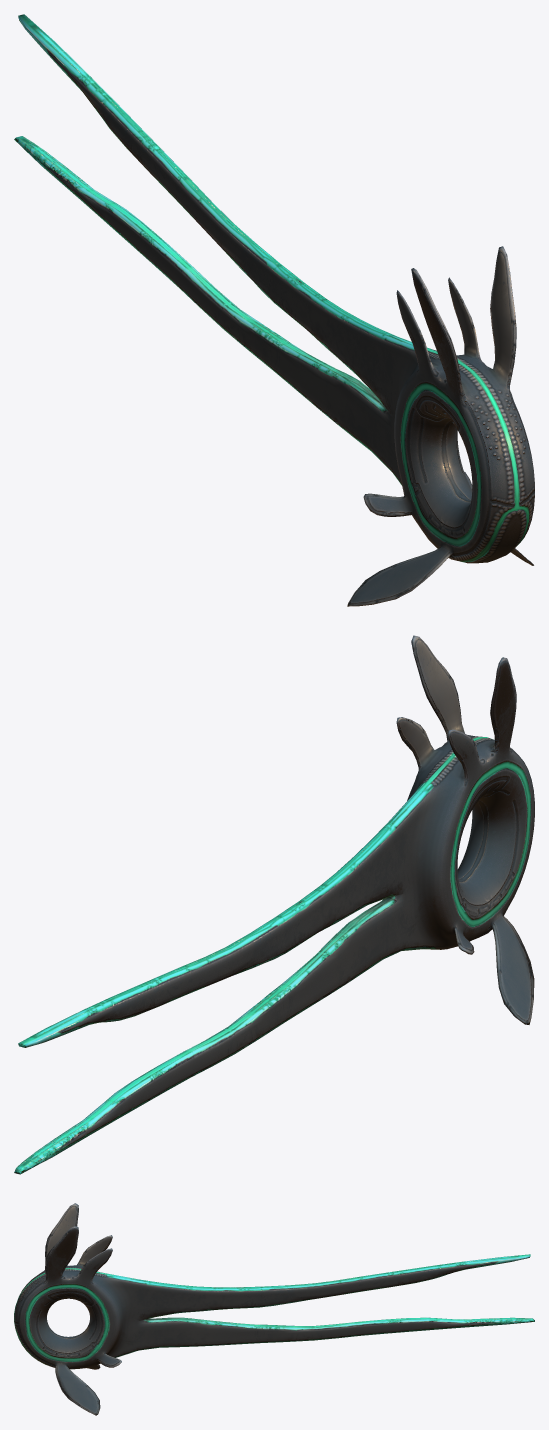
Rendered from anomaly.obj.
The picture shows the model from 3 angles, top to bottom: view 1: azimuth 30°, elevation 25°; view 2: azimuth 150°, elevation 25°; view 3: azimuth 270°, elevation 25°; orthographic projection. The views are drawn at different scales.
Parts seen in each view (by area): view 1: Torus002__0; view 2: Torus002__0; view 3: Torus002__0.
Part boxes in pixels (<box>): Torus002__0: <box>14,14,534,606</box>; Torus002__0: <box>14,635,534,1174</box>; Torus002__0: <box>14,1203,534,1415</box>.
Size of the model in its own units: 2.17 by 3.89 by 10.3.
1 material, 1 textured.
